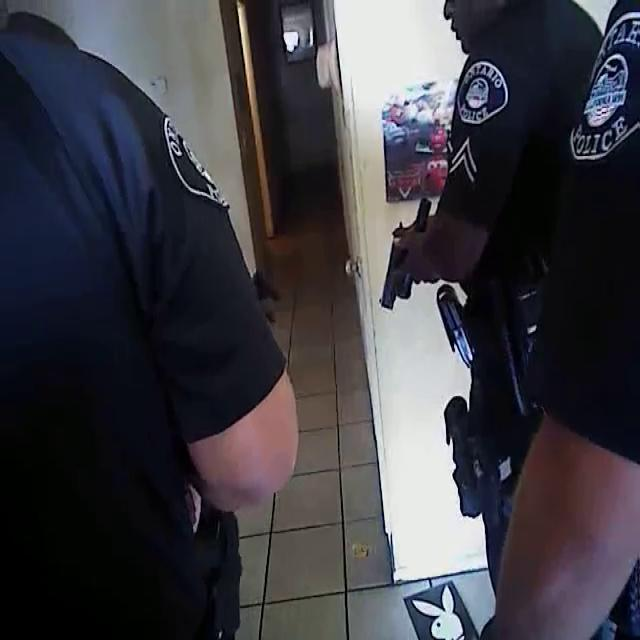gun: (366, 194, 443, 322)
